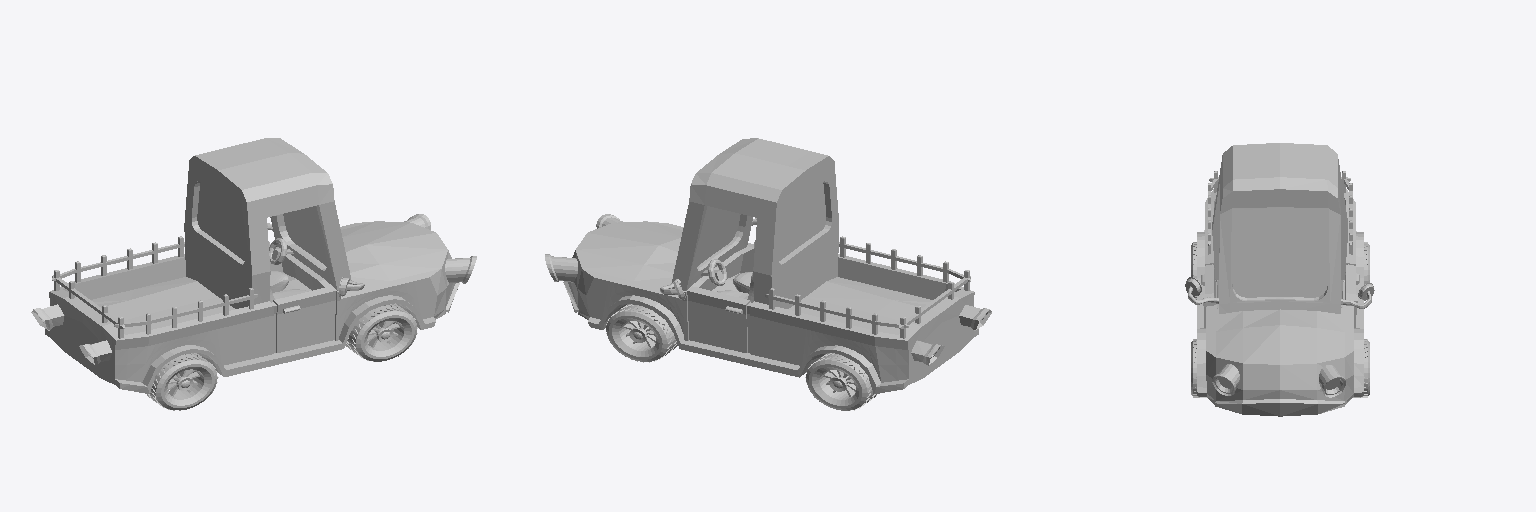
File: pinkCar.obj
3 views of the same model, side by side, from view 1: azimuth 30°, elevation 25°; view 2: azimuth 150°, elevation 25°; view 3: azimuth 270°, elevation 25° (orthographic).
Visible parts, largest first — view 1: defaultMaterial.034, defaultMaterial.031, defaultMaterial.030, defaultMaterial.033, defaultMaterial.032, defaultMaterial.025, defaultMaterial.003, defaultMaterial.001; view 2: defaultMaterial.034, defaultMaterial.028, defaultMaterial.029, defaultMaterial.033, defaultMaterial.032, defaultMaterial.024, defaultMaterial.001, defaultMaterial.003; view 3: defaultMaterial.034, defaultMaterial.032, defaultMaterial.024, defaultMaterial.025.
Part boxes in pixels (bbox=[...]): defaultMaterial.034: bbox=[31, 138, 459, 393]; defaultMaterial.031: bbox=[346, 303, 417, 361]; defaultMaterial.030: bbox=[147, 353, 218, 410]; defaultMaterial.033: bbox=[197, 182, 244, 260]; defaultMaterial.032: bbox=[283, 206, 326, 266]; defaultMaterial.025: bbox=[445, 256, 476, 283]; defaultMaterial.003: bbox=[114, 294, 257, 327]; defaultMaterial.001: bbox=[52, 242, 184, 280]; defaultMaterial.034: bbox=[563, 138, 991, 393]; defaultMaterial.028: bbox=[606, 304, 677, 362]; defaultMaterial.029: bbox=[805, 353, 876, 410]; defaultMaterial.033: bbox=[779, 182, 825, 260]; defaultMaterial.032: bbox=[697, 206, 740, 266]; defaultMaterial.024: bbox=[545, 254, 577, 282]; defaultMaterial.001: bbox=[765, 294, 908, 327]; defaultMaterial.003: bbox=[839, 242, 970, 281]; defaultMaterial.034: bbox=[1197, 143, 1363, 416]; defaultMaterial.032: bbox=[1232, 209, 1327, 297]; defaultMaterial.024: bbox=[1319, 365, 1345, 397]; defaultMaterial.025: bbox=[1212, 364, 1239, 395].
Bounding box in the file's own units: 291 × 133 × 120.